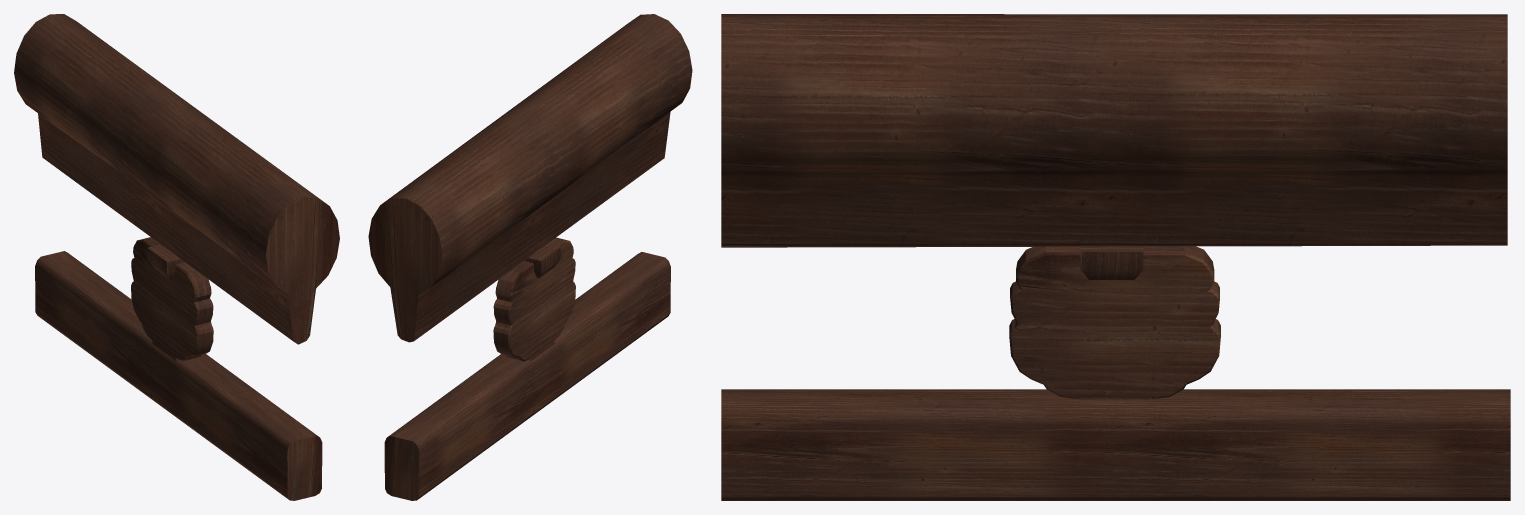
The model's file is SM_R_Dancheong_29.fbx.
3 views of the same model, side by side, from view 1: azimuth 30°, elevation 25°; view 2: azimuth 150°, elevation 25°; view 3: azimuth 270°, elevation 25° (orthographic). The views are drawn at different scales.
Visible parts, largest first — view 1: SM_R_Dancheong_29; view 2: SM_R_Dancheong_29; view 3: SM_R_Dancheong_29.
Part boxes in pixels (<box>): SM_R_Dancheong_29: <box>14,14,339,500</box>; SM_R_Dancheong_29: <box>368,14,692,500</box>; SM_R_Dancheong_29: <box>721,14,1510,500</box>.
Bounding box in the file's own units: 43.91 × 257 × 170.
2 materials, 2 textured.
